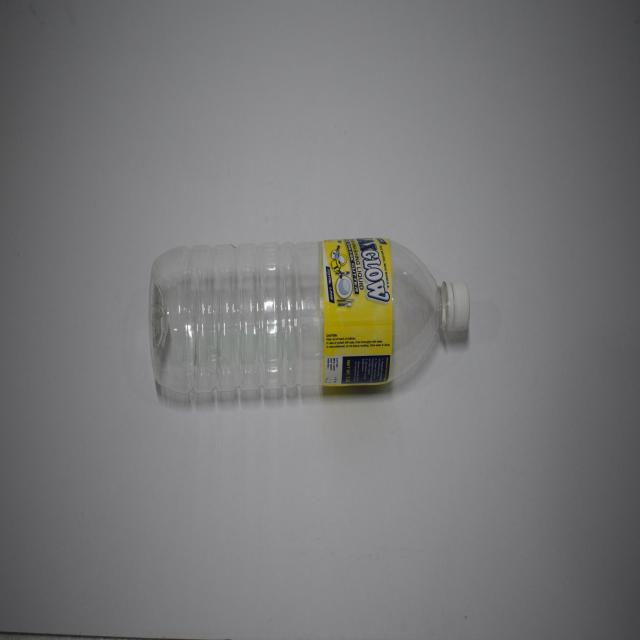empty: (149, 237, 470, 394)
